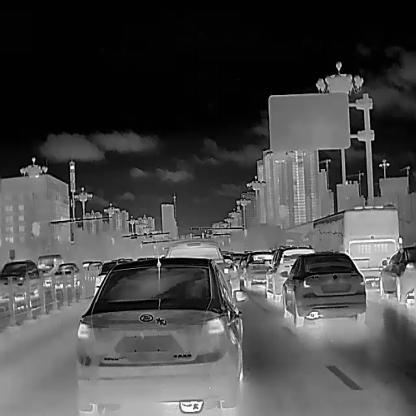car: (75, 256, 249, 415), (311, 204, 400, 288), (279, 251, 366, 328), (265, 244, 315, 302), (379, 245, 416, 303), (0, 259, 40, 303), (93, 258, 131, 297), (243, 250, 276, 289), (36, 253, 64, 287), (222, 255, 243, 298), (53, 262, 80, 289), (80, 261, 102, 279)
